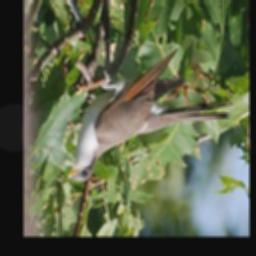Cuckoo: (67, 49, 235, 183)
